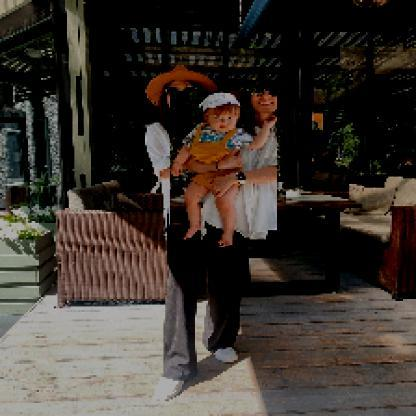child: (171, 92, 279, 248)
